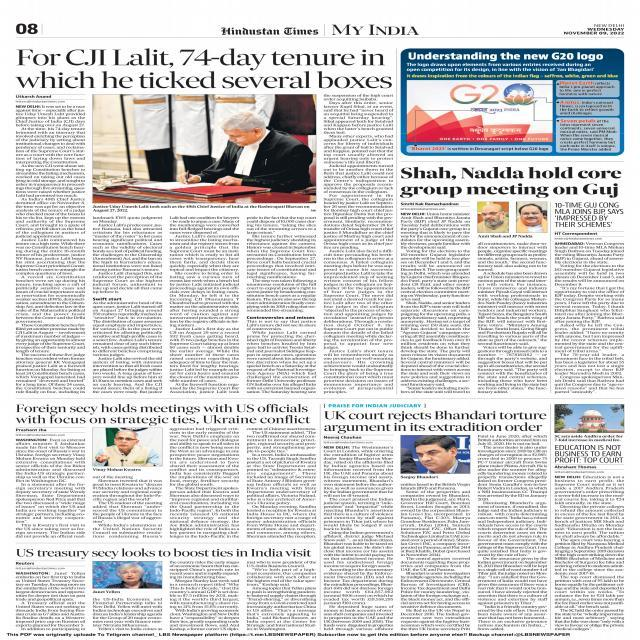Article: (10, 44, 396, 397), (398, 163, 627, 396), (322, 402, 549, 632), (10, 401, 320, 540), (12, 545, 318, 633), (404, 48, 623, 154), (552, 403, 628, 632)
Body: (322, 93, 395, 394), (14, 104, 88, 395), (476, 434, 548, 631), (399, 212, 472, 394), (324, 444, 394, 632), (168, 215, 240, 395), (91, 216, 163, 394), (246, 216, 318, 394), (554, 475, 626, 631), (554, 241, 626, 395), (477, 241, 548, 394), (400, 482, 472, 631), (244, 427, 317, 538), (168, 428, 240, 538), (14, 438, 86, 538), (246, 560, 318, 632), (169, 560, 241, 631), (92, 474, 164, 538), (14, 571, 87, 632), (90, 597, 164, 631), (406, 62, 596, 73), (557, 119, 618, 152), (558, 100, 619, 116), (556, 81, 618, 96), (408, 147, 548, 152)
Date: (562, 28, 626, 36)
Heading: (15, 48, 394, 90), (399, 166, 621, 198), (14, 403, 312, 424), (324, 410, 546, 433), (15, 547, 312, 559), (406, 52, 605, 61), (554, 442, 624, 464)
Highlights: (554, 201, 624, 228)
Image: (94, 94, 316, 204), (407, 80, 552, 142), (92, 426, 163, 466), (402, 436, 471, 474), (92, 561, 162, 589), (556, 405, 625, 433), (478, 201, 509, 233), (516, 202, 548, 232)
Name: (332, 24, 418, 36), (219, 26, 320, 35)
